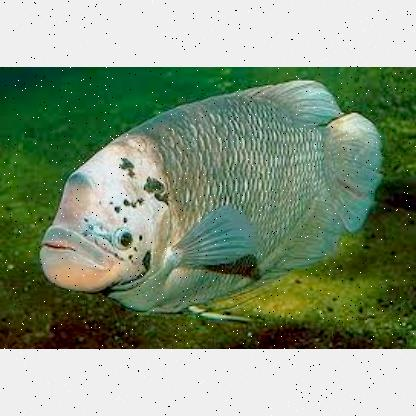gurame: (41, 78, 379, 312)
